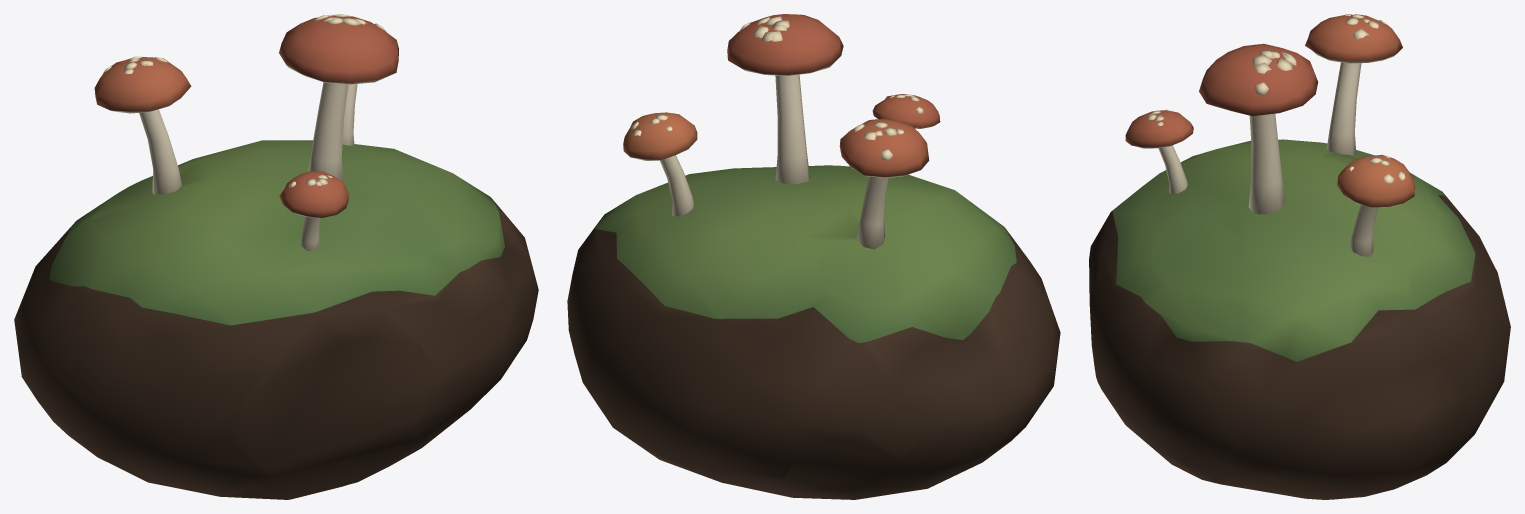
Rendered from mushroom_cluster.glb.
The picture shows the model from 3 angles, left to right: view 1: azimuth 30°, elevation 25°; view 2: azimuth 150°, elevation 25°; view 3: azimuth 270°, elevation 25°; orthographic projection. The views are drawn at different scales.
Visible parts, largest first — view 1: MushroomBase, Mushroom_0, Mushroom_1, Mushroom_3, Mushroom_2; view 2: MushroomBase, Mushroom_0, Mushroom_1, Mushroom_2, Mushroom_3; view 3: MushroomBase, Mushroom_0, Mushroom_1, Mushroom_2, Mushroom_3.
Boxes of the visible parts, x1,y1,x2,y2 form: MushroomBase: [14, 140, 538, 499]; Mushroom_0: [279, 14, 398, 182]; Mushroom_1: [94, 56, 191, 194]; Mushroom_3: [279, 171, 348, 250]; Mushroom_2: [342, 84, 357, 145]; MushroomBase: [567, 165, 1060, 499]; Mushroom_0: [727, 14, 843, 183]; Mushroom_1: [839, 118, 929, 249]; Mushroom_2: [623, 112, 697, 216]; Mushroom_3: [872, 94, 940, 128]; MushroomBase: [1089, 139, 1510, 499]; Mushroom_0: [1199, 43, 1318, 214]; Mushroom_1: [1305, 14, 1402, 155]; Mushroom_2: [1337, 154, 1414, 256]; Mushroom_3: [1125, 109, 1193, 193].
Size of the model in its own units: 0.3958 by 0.3648 by 0.3161.
